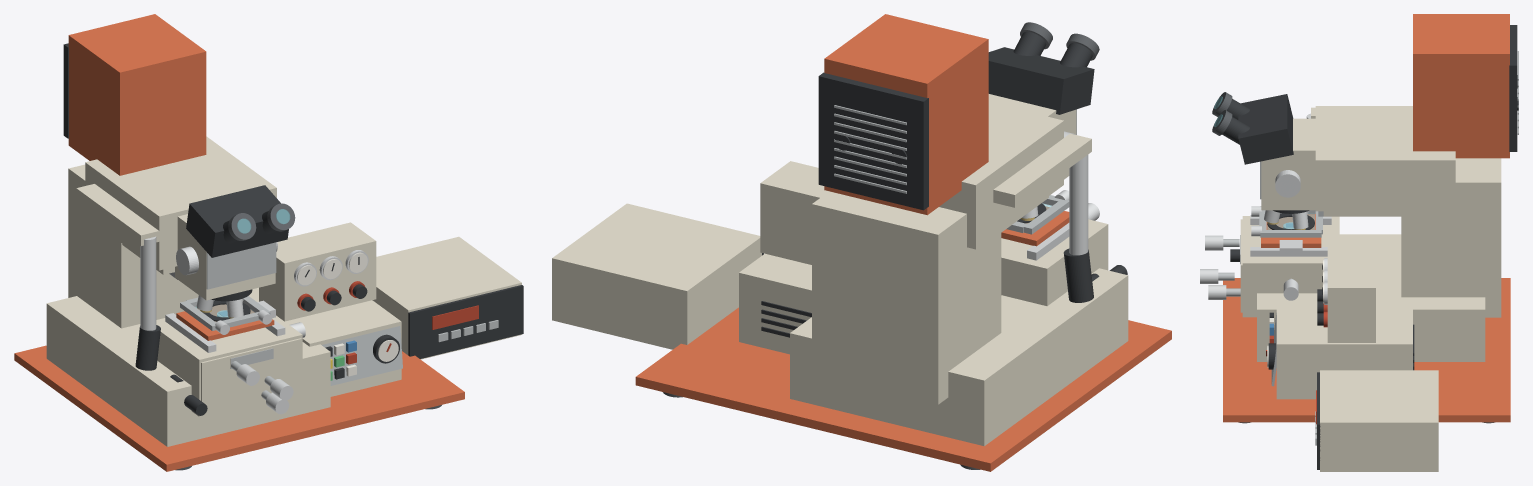
Rendered from mjb3.glb.
3 views of the same model, side by side, from view 1: azimuth 30°, elevation 25°; view 2: azimuth 150°, elevation 25°; view 3: azimuth 270°, elevation 25° (orthographic). The views are drawn at different scales.
Parts seen in each view (by area): view 1: lamphouse, base_casting, base_plate, mirror_housing, rear_column, lamp_psu, manometer_box, psu_front, stage_pedestal, stage_face, binocular_prism, control_base (+13 smaller); view 2: rear_column, base_casting, lamp_psu, base_plate, lamphouse, lamphouse_back, mirror_housing, control_base, manometer_box, binocular_prism, stage_pedestal, support_arm (+4 smaller); view 3: lamphouse, mirror_housing, base_plate, lamp_psu, rear_column, control_base, base_casting, manometer_box, stage_pedestal, microscope_body, binocular_prism, lamphouse_back (+7 smaller).
Boxes of the visible parts, bbox=[...] form: lamphouse: bbox=[68, 14, 206, 175]; base_casting: bbox=[46, 296, 330, 446]; base_plate: bbox=[14, 345, 464, 471]; mirror_housing: bbox=[85, 136, 276, 270]; rear_column: bbox=[68, 164, 198, 328]; lamp_psu: bbox=[372, 236, 521, 359]; manometer_box: bbox=[259, 222, 376, 321]; psu_front: bbox=[408, 285, 523, 358]; stage_pedestal: bbox=[156, 297, 302, 416]; stage_face: bbox=[201, 338, 301, 411]; binocular_prism: bbox=[186, 185, 288, 257]; control_base: bbox=[249, 287, 401, 396]; rear_column: bbox=[812, 191, 1001, 404]; base_casting: bbox=[790, 268, 1128, 446]; lamp_psu: bbox=[552, 203, 761, 349]; base_plate: bbox=[635, 307, 1171, 471]; lamphouse: bbox=[824, 14, 988, 215]; lamphouse_back: bbox=[818, 72, 928, 210]; mirror_housing: bbox=[939, 102, 1063, 249]; control_base: bbox=[739, 253, 811, 354]; manometer_box: bbox=[760, 161, 828, 264]; binocular_prism: bbox=[988, 47, 1094, 114]; stage_pedestal: bbox=[1001, 219, 1108, 305]; support_arm: bbox=[993, 133, 1091, 207]; lamphouse: bbox=[1413, 14, 1509, 158]; mirror_housing: bbox=[1315, 106, 1455, 211]; base_plate: bbox=[1223, 278, 1510, 422]; lamp_psu: bbox=[1320, 370, 1438, 471]; rear_column: bbox=[1401, 158, 1501, 317]; control_base: bbox=[1276, 302, 1412, 399]; base_casting: bbox=[1257, 234, 1485, 361]; manometer_box: bbox=[1327, 245, 1375, 342]; stage_pedestal: bbox=[1242, 216, 1339, 317]; microscope_body: bbox=[1261, 118, 1315, 210]; binocular_prism: bbox=[1238, 94, 1293, 164]; lamphouse_back: bbox=[1509, 25, 1517, 151].
Bounding box in the file's own units: 0.709 × 0.533 × 0.5095.
